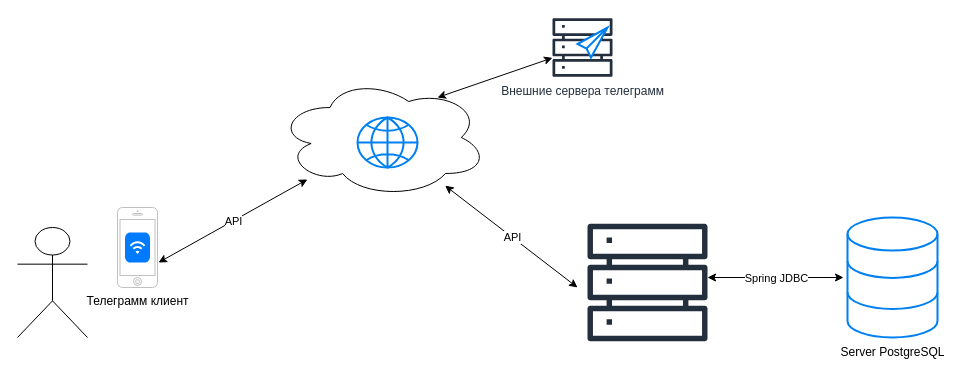
Some shapes in this 975 by 384 pixel diagram are drawn without their labels. Here are the shapes that lost their labels. From the top down, the centre of each, then its label:
(52,282): Actor
(647,282): Server логики и взаимодействия с БД
